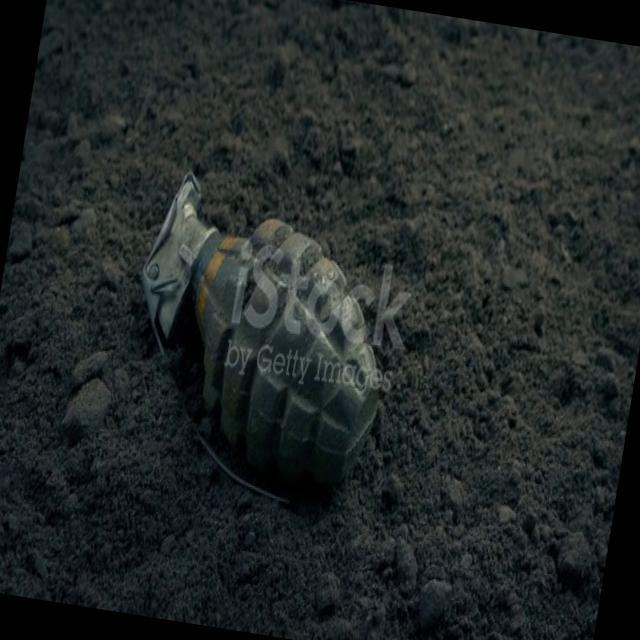grenade: (110, 160, 410, 519)
